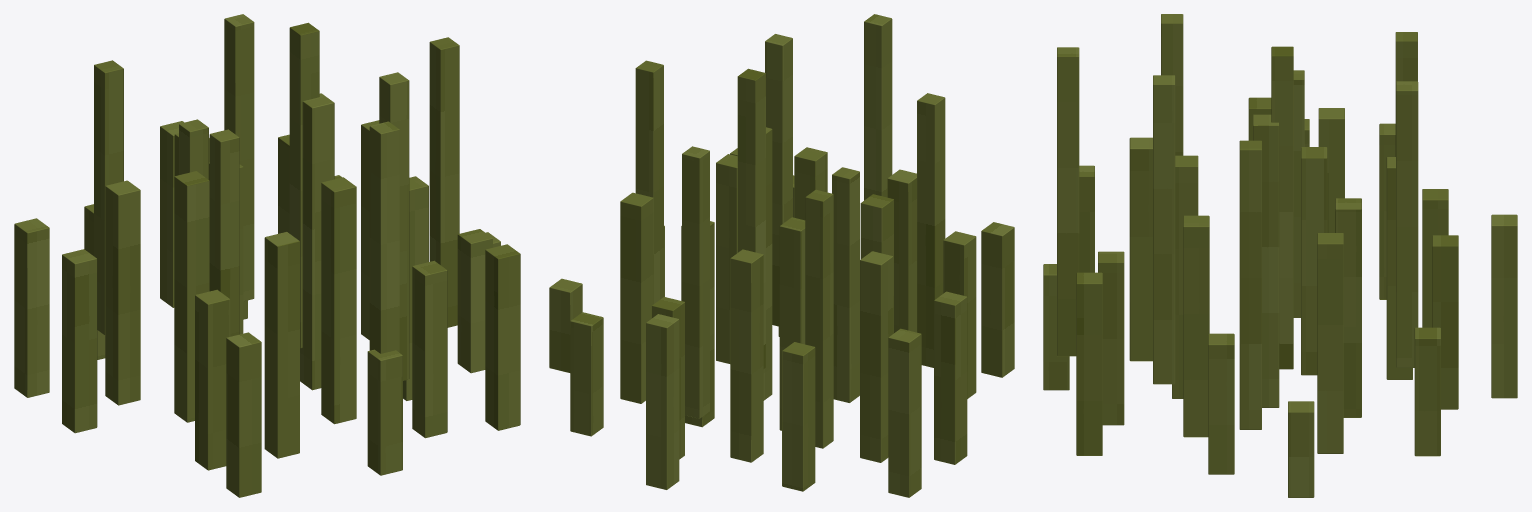
File: Shoots.glb
3 views of the same model, side by side, from view 1: azimuth 30°, elevation 25°; view 2: azimuth 150°, elevation 25°; view 3: azimuth 270°, elevation 25° (orthographic). The views are drawn at different scales.
Parts seen in each view (by area): view 1: Shoots; view 2: Shoots; view 3: Shoots.
Boxes of the visible parts, x1=… form: Shoots: x1=14, y1=14, x2=520, y2=497; Shoots: x1=549, y1=14, x2=1014, y2=497; Shoots: x1=1043, y1=14, x2=1517, y2=497.
Size of the model in its own units: 0.5339 by 0.4153 by 0.5108.
Materials: 1 (1 with a texture image).
